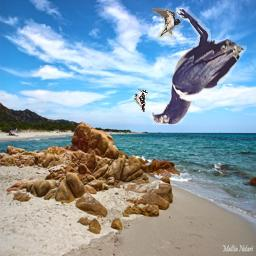Crow: (151, 9, 247, 125)
Swallow: (152, 8, 181, 41)
Woodpecker: (134, 89, 148, 112)
